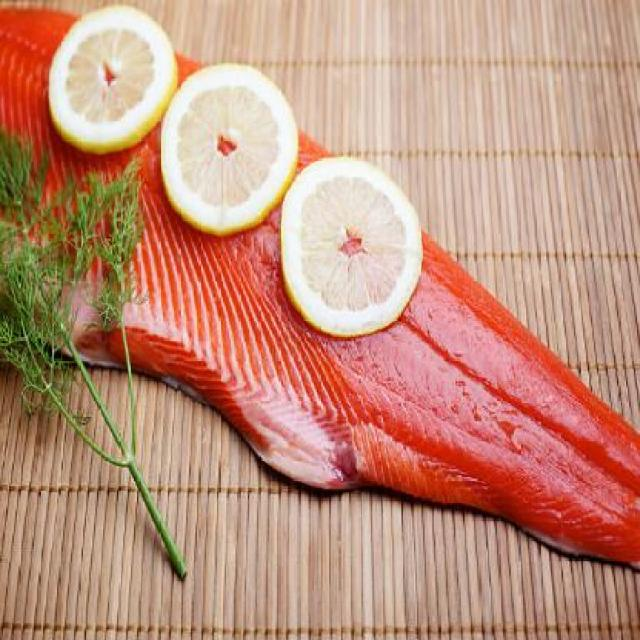salmon: (0, 3, 640, 577)
